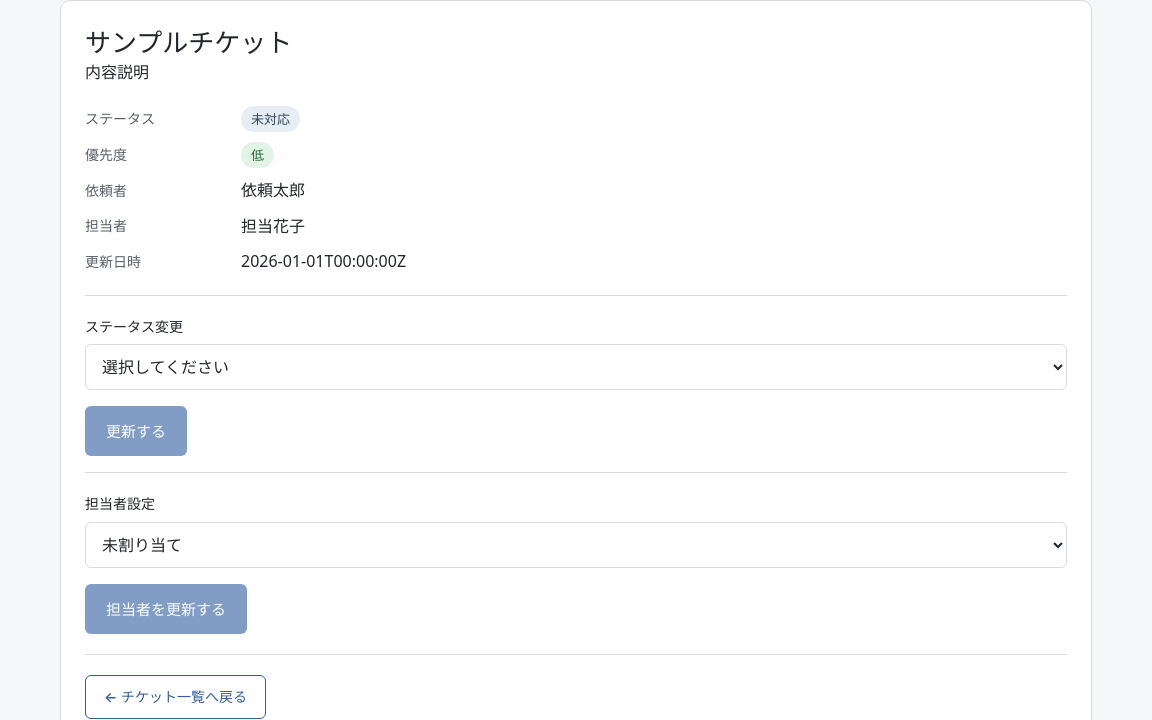
it: TicketDetailPage › 担当者設定(ADMIN) › 担当者更新の404はErrorMessageで表示される
The width and height of the screenshot is (1152, 720).
expect the heading "サンプルチケット" is shown: met, box [85,25,292,60]
Select "担当太郎" in the dropdown labelled "担当者設定" at (576, 545), box [85,522,1067,568]
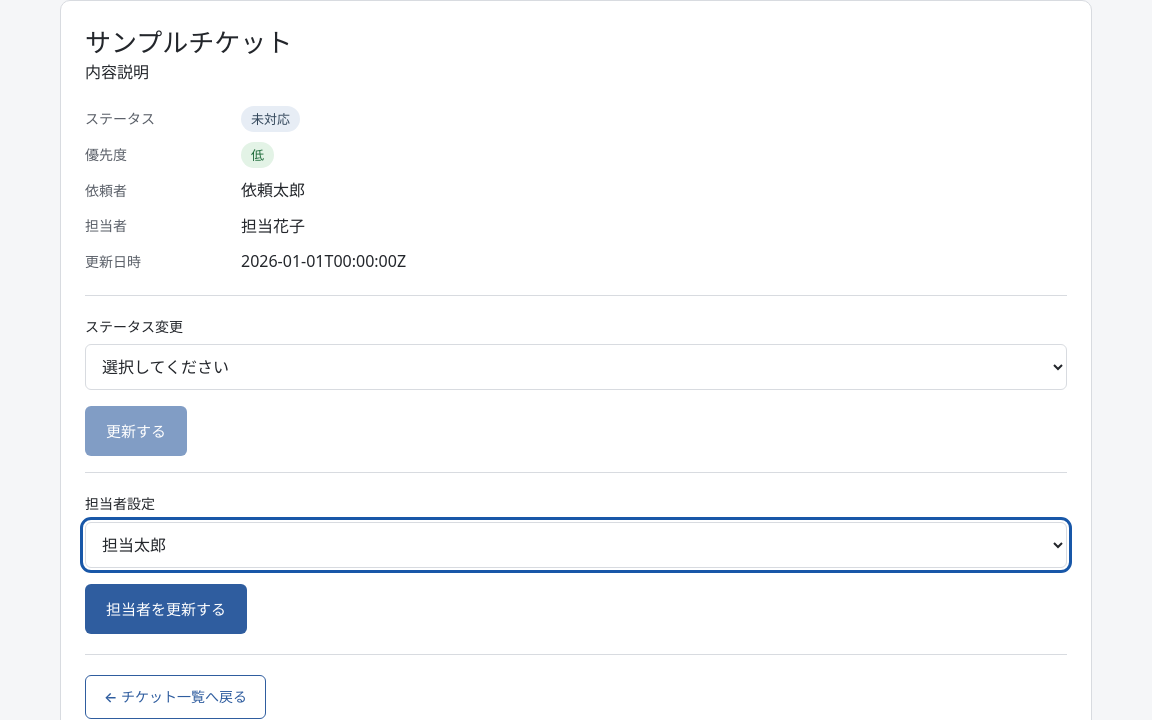
Click the button "担当者を更新する".
click(166, 609)  # box [85,584,247,634]
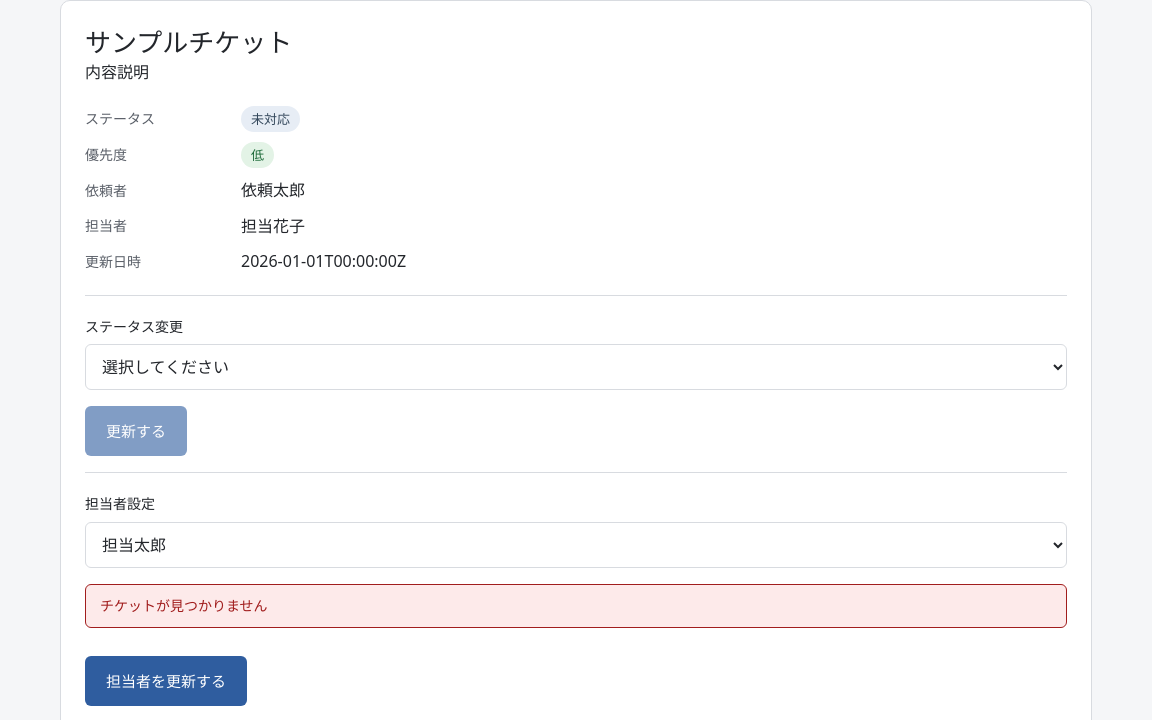
expect the message reads "チケットが見つかりません": met, box [100,596,268,615]
